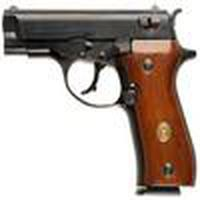gun: (1, 8, 196, 196)
